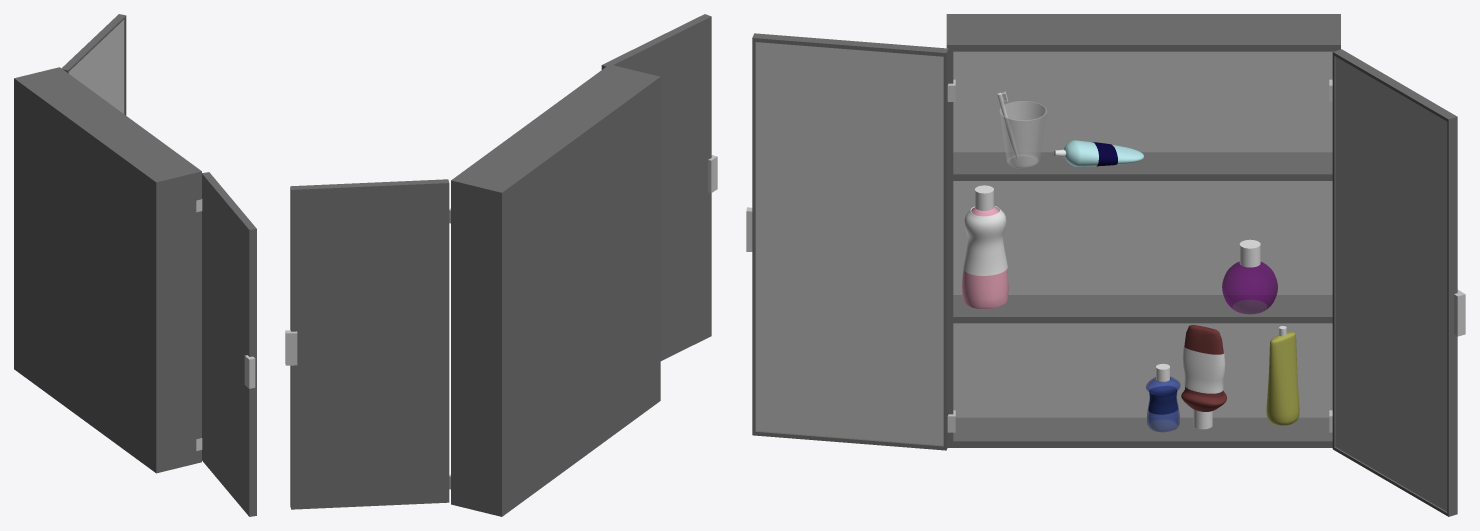
Rendered from MedicineCabinent01.fbx.
3 renders of one model, left to right at view 1: azimuth 30°, elevation 25°; view 2: azimuth 150°, elevation 25°; view 3: azimuth 270°, elevation 25°, orthographic. The views are drawn at different scales.
Visible parts, largest first — view 1: pCube19, pCube23, pCube2, pCube22, pCube21; view 2: pCube19, pCube22, pCube23; view 3: pCube1, pCube3, pCube2, pCube19, pCube4, pCube5, pCube22, pCube23, pCube6, pCylinder1, pCube24, pSphere1 (+5 smaller).
Part boxes in pixels (<box>): pCube19: <box>14,67,201,473</box>; pCube23: <box>202,172,256,516</box>; pCube2: <box>69,20,124,113</box>; pCube22: <box>61,14,126,115</box>; pCube21: <box>244,355,255,388</box>; pCube19: <box>451,64,660,516</box>; pCube22: <box>290,179,449,509</box>; pCube23: <box>601,14,711,360</box>; pCube1: <box>953,51,1332,417</box>; pCube3: <box>755,42,943,445</box>; pCube2: <box>1335,57,1447,511</box>; pCube19: <box>946,14,1340,447</box>; pCube4: <box>953,295,1332,323</box>; pCube5: <box>953,152,1332,180</box>; pCube22: <box>1332,49,1457,516</box>; pCube23: <box>752,33,948,450</box>; pCube6: <box>1266,332,1299,425</box>; pCylinder1: <box>999,101,1046,168</box>; pCube24: <box>963,206,1007,275</box>; pSphere1: <box>1222,261,1277,314</box>.
Size of the model in its own units: 5.57 by 10.16 by 16.43.
